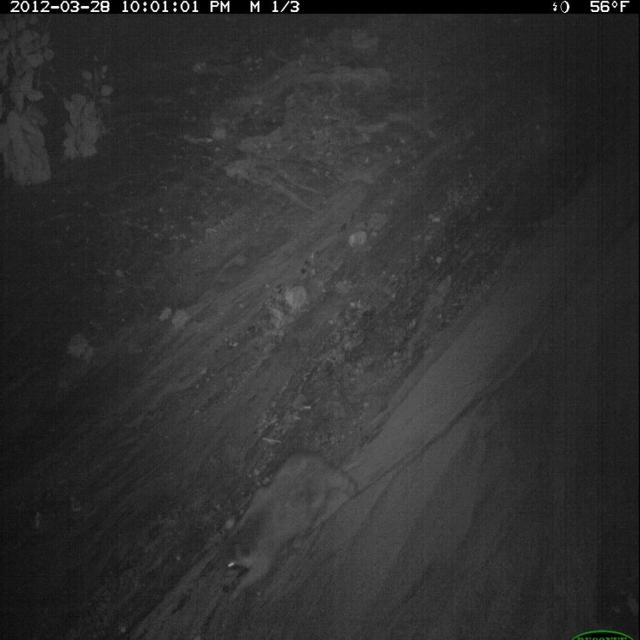raccoon: (217, 447, 366, 610)
